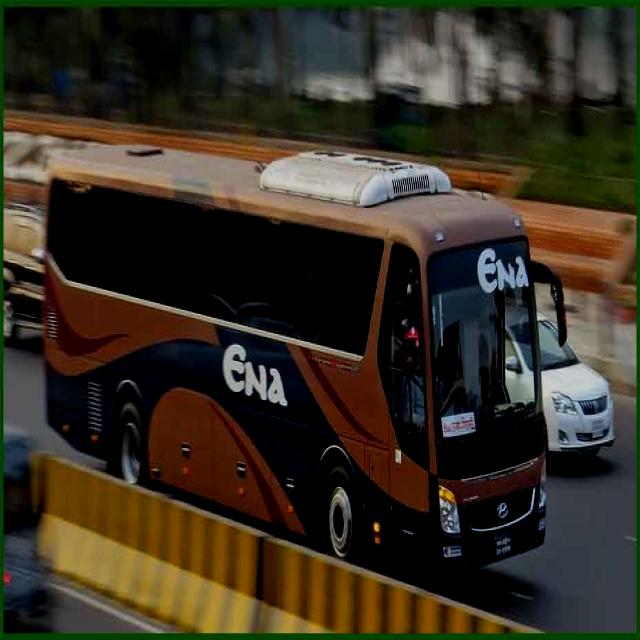bus: (44, 144, 568, 577)
